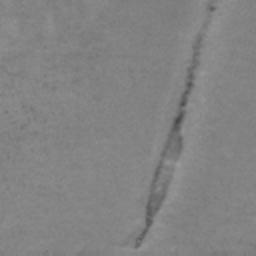Finishing roll printing: (133, 1, 218, 250)
